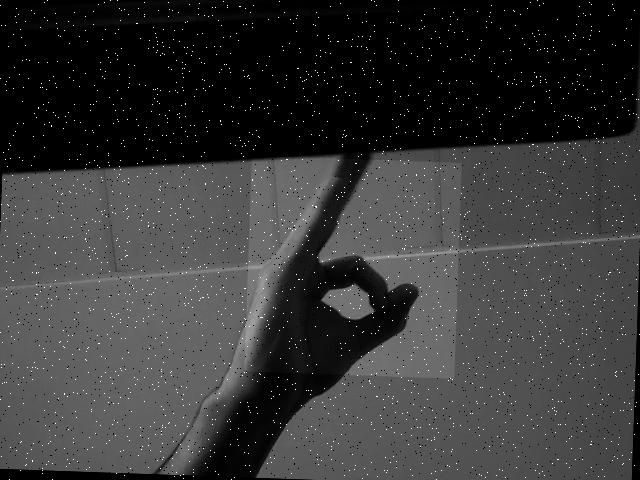OK: (244, 156, 462, 378)
